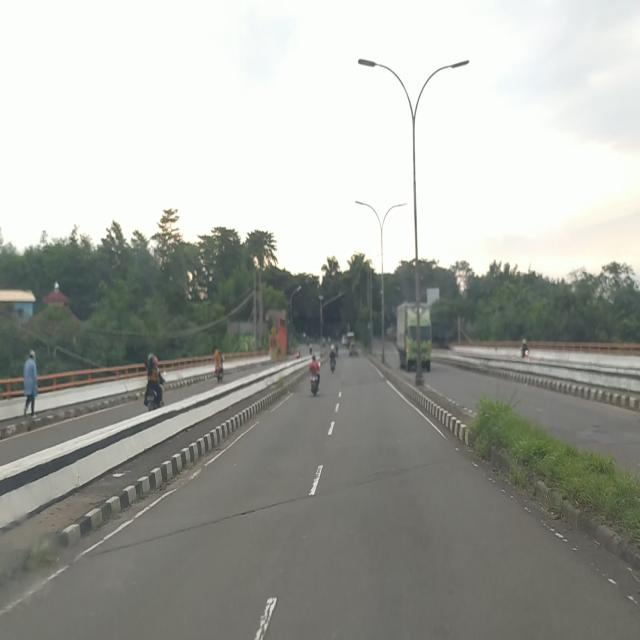Sewer Cover: (94, 451, 456, 558)
